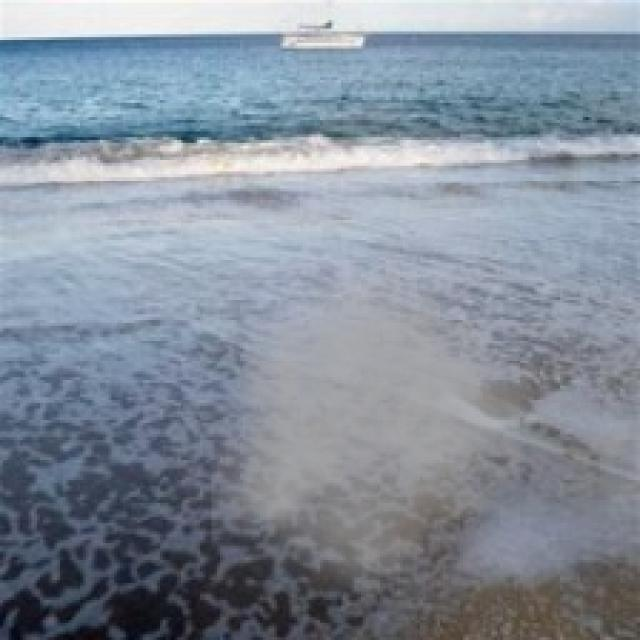smoke: (212, 248, 568, 612)
